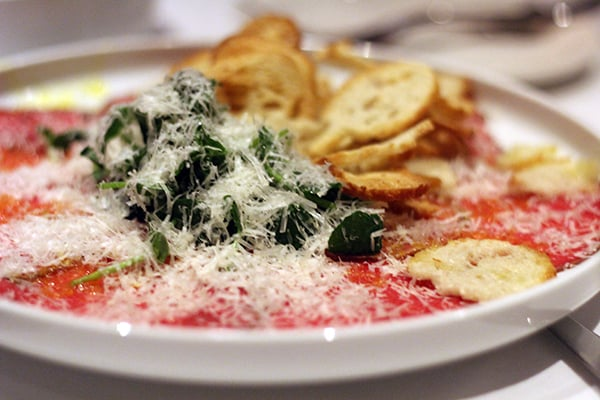sandwich: (0, 26, 597, 358)
